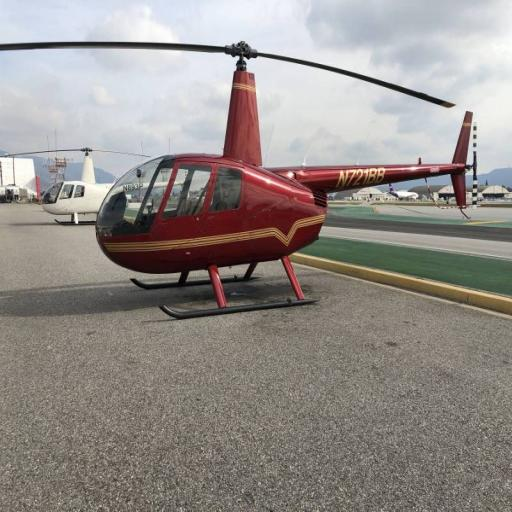helicopter: (5, 29, 483, 329)
